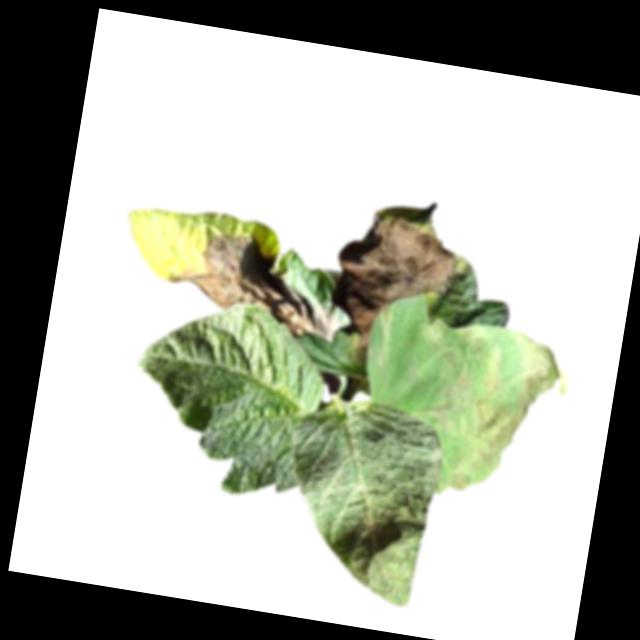Late_blight: (415, 316, 577, 513), (320, 203, 469, 378), (161, 222, 352, 345)
healthy: (114, 287, 329, 505), (273, 391, 447, 609)
